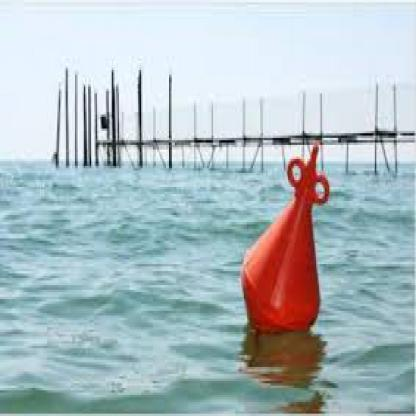buoy: (235, 133, 328, 344)
